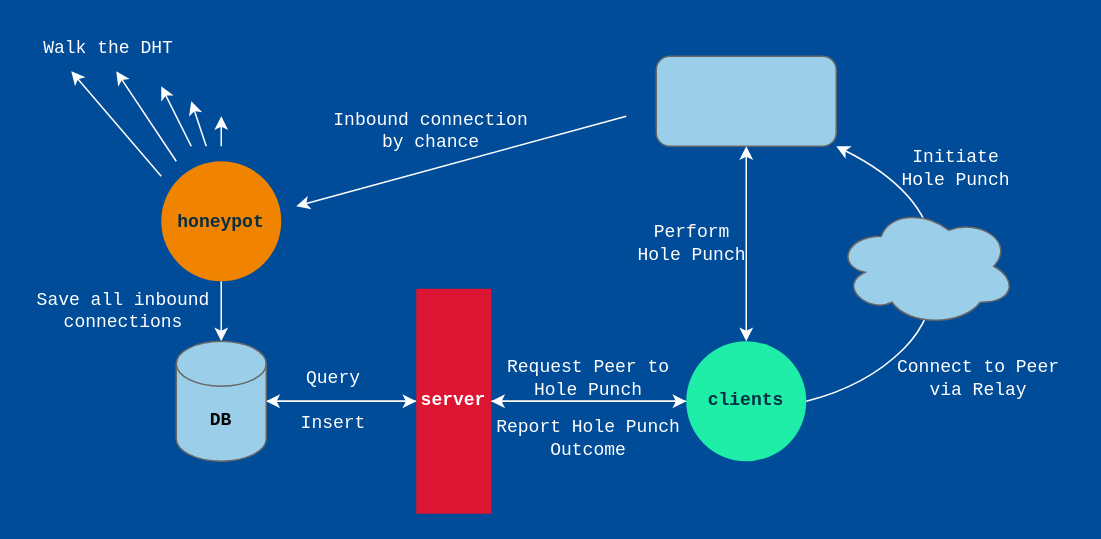
Some shapes in this 1101 by 539 pixel diagram are drawn without their labels. The centre of each missing label's shape, as x and y in pixels:
Relay v2: point 925,265
Some DCUtR Capable Peer: point 745,100
